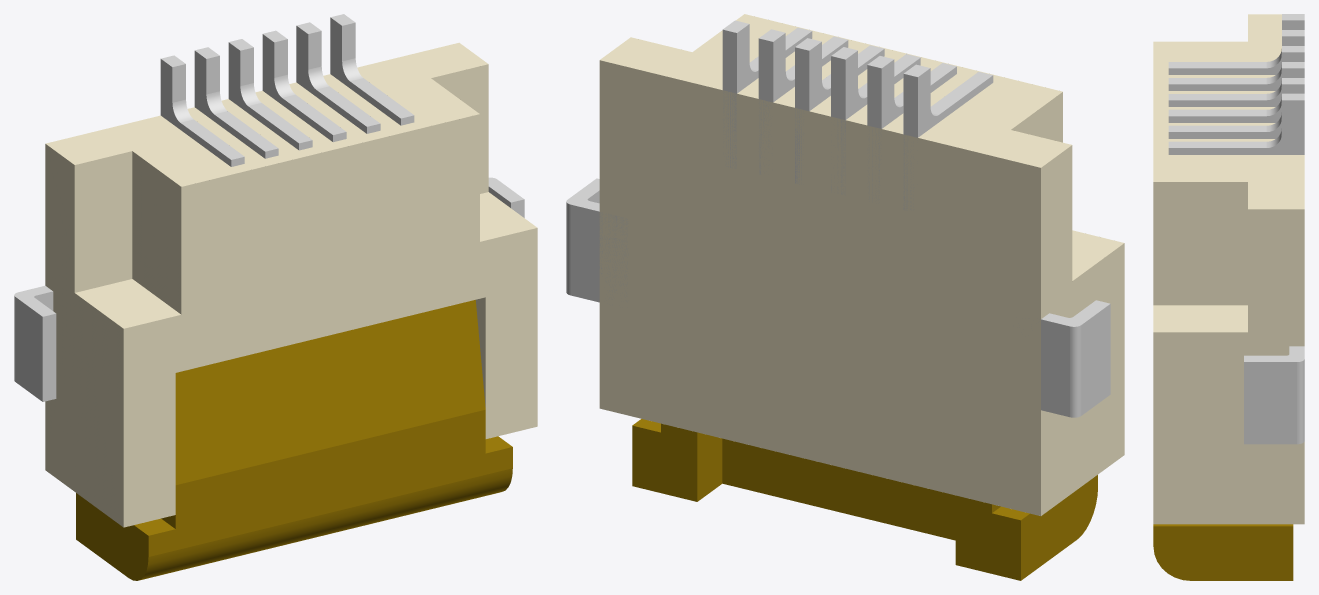
The model's file is Hirose_FH12-6S-0.5SH_1x06-1MP_P0.50mm_Horizontal.glb.
3 renders of one model, left to right at view 1: azimuth 30°, elevation 25°; view 2: azimuth 150°, elevation 25°; view 3: azimuth 270°, elevation 25°, orthographic. The views are drawn at different scales.
Parts seen in each view (by area): view 1: Shape_IndexedFaceSet.005, Shape_IndexedFaceSet.023, Shape_IndexedFaceSet.016, Shape_IndexedFaceSet.008, Shape_IndexedFaceSet, Shape_IndexedFaceSet.018, Shape_IndexedFaceSet.007, Shape_IndexedFaceSet.006, Shape_IndexedFaceSet.020, Shape_IndexedFaceSet.014, Shape_IndexedFaceSet.127, Shape_IndexedFaceSet.003 (+14 smaller); view 2: Shape_IndexedFaceSet.001, Shape_IndexedFaceSet.008, Shape_IndexedFaceSet, Shape_IndexedFaceSet.030, Shape_IndexedFaceSet.026, Shape_IndexedFaceSet.027, Shape_IndexedFaceSet.020, Shape_IndexedFaceSet.125, Shape_IndexedFaceSet.127, Shape_IndexedFaceSet.134, Shape_IndexedFaceSet.031, Shape_IndexedFaceSet.014 (+15 smaller); view 3: Shape_IndexedFaceSet.002, Shape_IndexedFaceSet, Shape_IndexedFaceSet.004, Shape_IndexedFaceSet.017, Shape_IndexedFaceSet.118, Shape_IndexedFaceSet.010, Shape_IndexedFaceSet.058, Shape_IndexedFaceSet.042, Shape_IndexedFaceSet.046, Shape_IndexedFaceSet.050, Shape_IndexedFaceSet.054, Shape_IndexedFaceSet.038 (+9 smaller).
Boxes of the visible parts, x1,y1,x2,y2 form: Shape_IndexedFaceSet.005: (123, 114, 537, 527); Shape_IndexedFaceSet.023: (175, 300, 485, 484); Shape_IndexedFaceSet.016: (148, 409, 512, 556); Shape_IndexedFaceSet.008: (45, 144, 123, 527); Shape_IndexedFaceSet: (46, 42, 488, 186); Shape_IndexedFaceSet.018: (139, 468, 512, 580); Shape_IndexedFaceSet.007: (74, 151, 132, 292); Shape_IndexedFaceSet.006: (132, 151, 181, 314); Shape_IndexedFaceSet.020: (76, 493, 148, 580); Shape_IndexedFaceSet.014: (75, 279, 180, 328); Shape_IndexedFaceSet.127: (15, 297, 42, 401); Shape_IndexedFaceSet.003: (431, 64, 488, 193); Shape_IndexedFaceSet.001: (599, 60, 1040, 515); Shape_IndexedFaceSet.008: (1041, 145, 1124, 515); Shape_IndexedFaceSet: (600, 14, 1071, 167); Shape_IndexedFaceSet.030: (722, 438, 955, 540); Shape_IndexedFaceSet.026: (632, 423, 697, 501); Shape_IndexedFaceSet.027: (955, 495, 1020, 580); Shape_IndexedFaceSet.020: (1021, 475, 1097, 580); Shape_IndexedFaceSet.125: (570, 204, 628, 302); Shape_IndexedFaceSet.127: (1081, 304, 1110, 415); Shape_IndexedFaceSet.134: (1041, 319, 1069, 417); Shape_IndexedFaceSet.031: (697, 432, 722, 501); Shape_IndexedFaceSet.014: (1072, 230, 1123, 280); Shape_IndexedFaceSet.002: (1153, 209, 1304, 524); Shape_IndexedFaceSet: (1153, 14, 1304, 209); Shape_IndexedFaceSet.004: (1153, 182, 1247, 305); Shape_IndexedFaceSet.017: (1153, 526, 1293, 580); Shape_IndexedFaceSet.118: (1244, 362, 1296, 444); Shape_IndexedFaceSet.010: (1153, 305, 1247, 332); Shape_IndexedFaceSet.058: (1168, 100, 1304, 154); Shape_IndexedFaceSet.042: (1168, 36, 1304, 90); Shape_IndexedFaceSet.046: (1168, 52, 1304, 106); Shape_IndexedFaceSet.050: (1168, 68, 1304, 122); Shape_IndexedFaceSet.054: (1168, 84, 1304, 138); Shape_IndexedFaceSet.038: (1168, 20, 1304, 74).
Bounding box in the file's own units: 2.8 × 2.52 × 0.7874.
